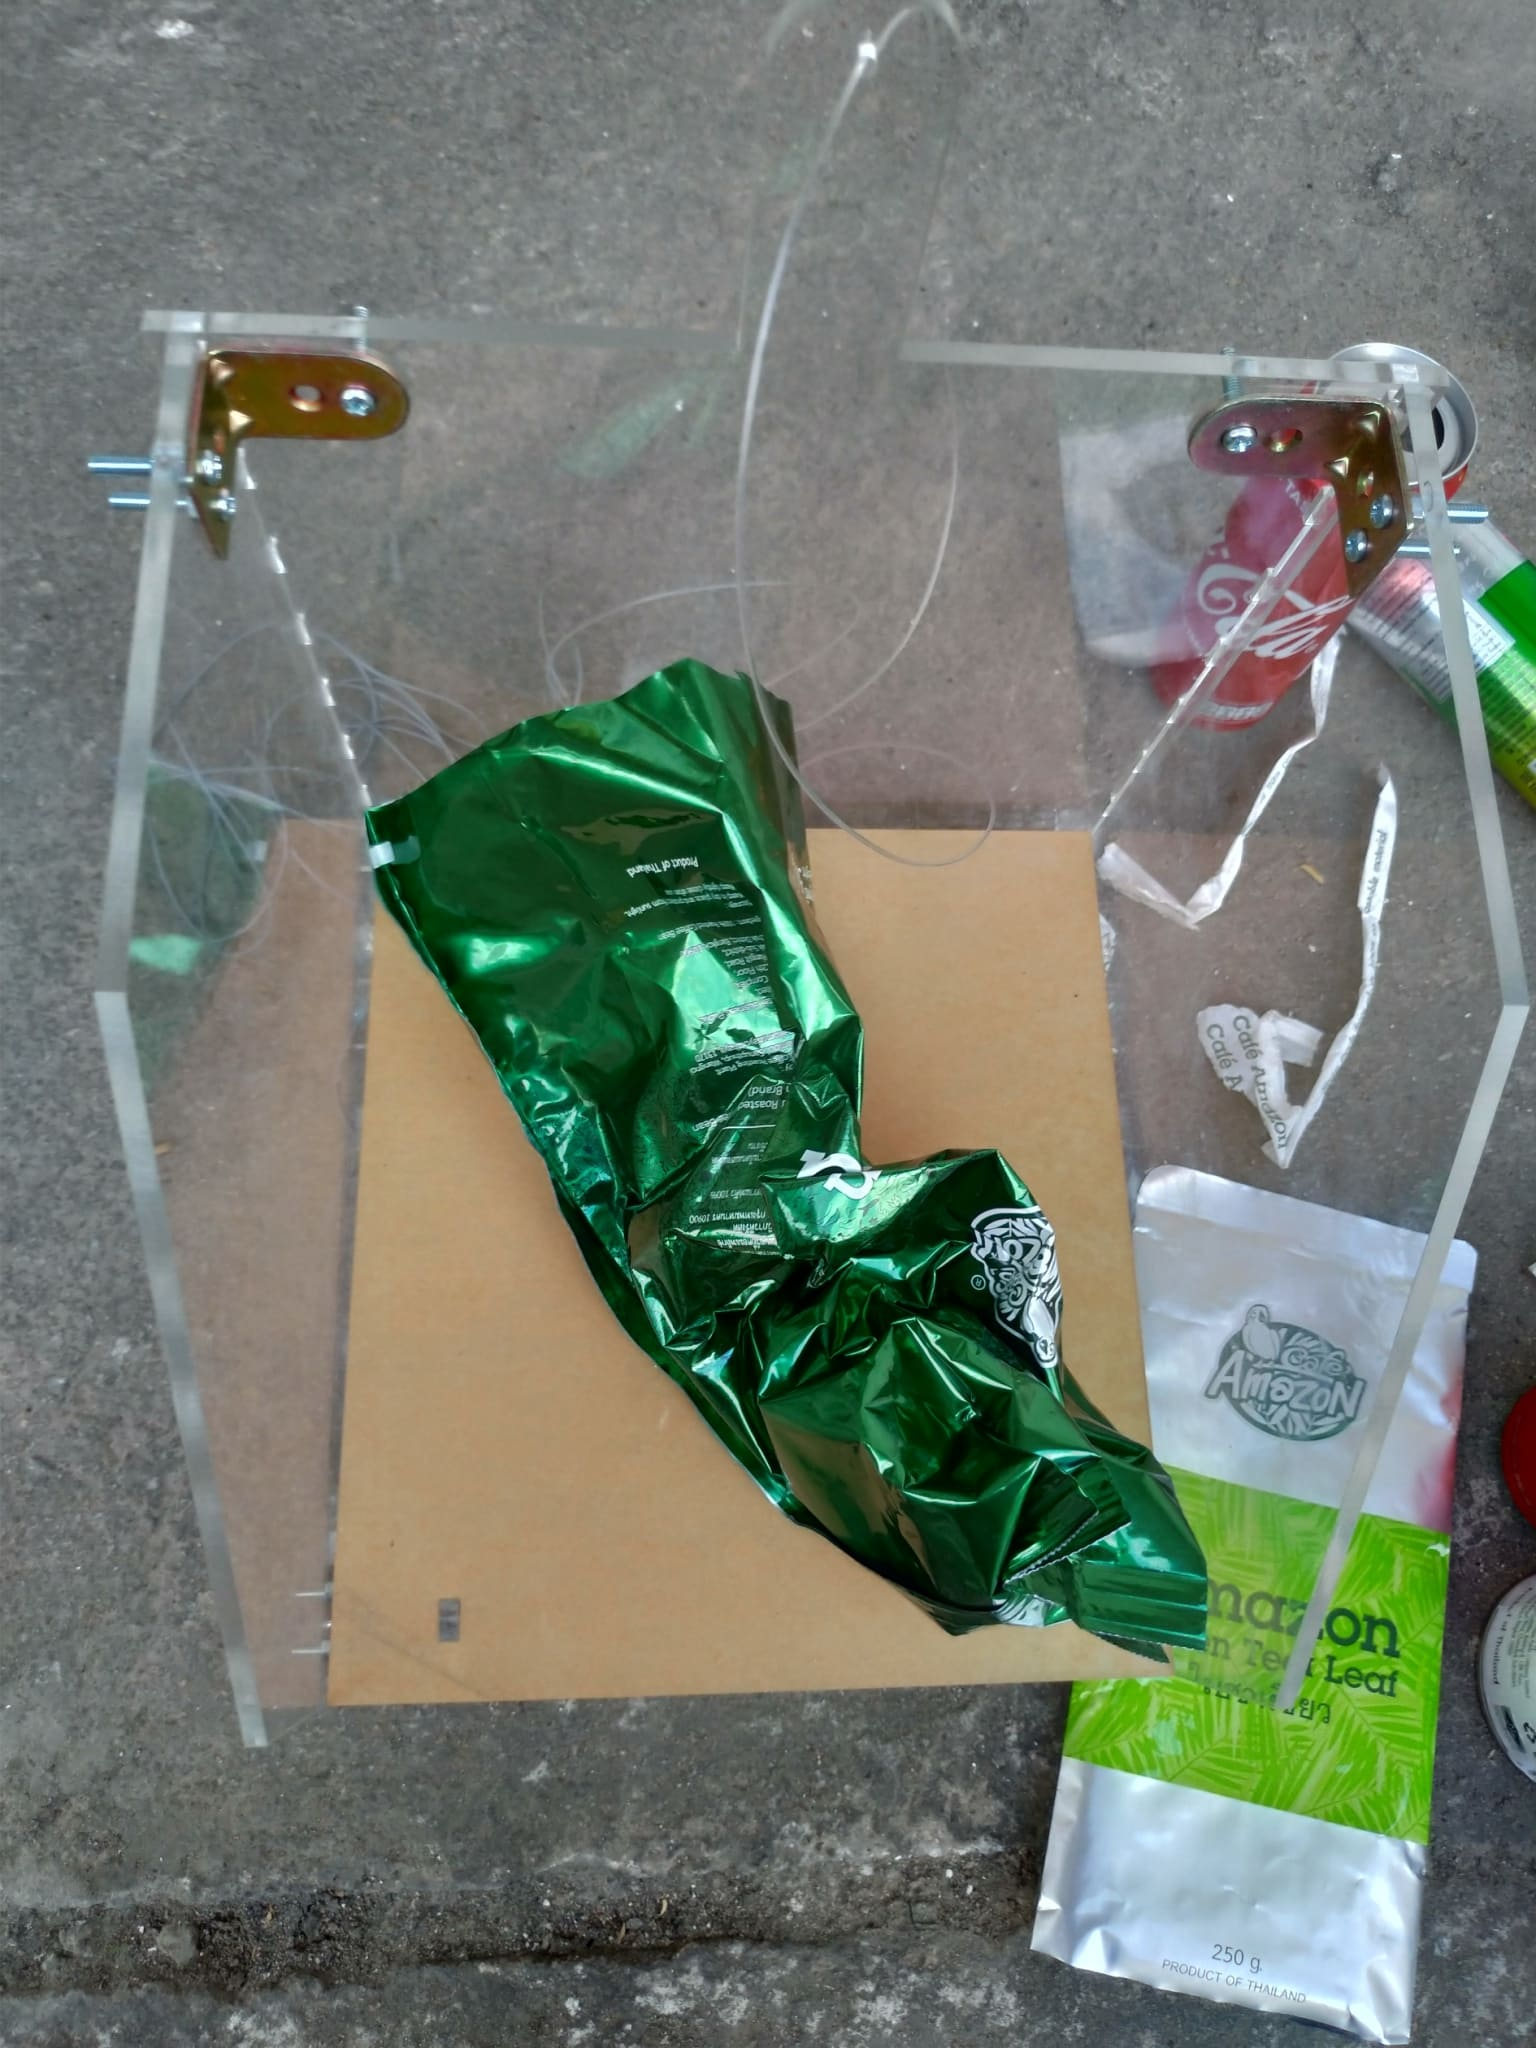AlCan: (1121, 332, 1471, 731), (1368, 493, 1536, 798)
Others: (373, 664, 1213, 1658), (1020, 1158, 1483, 2017)
